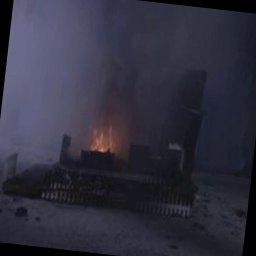fire: (75, 114, 134, 179)
smoke: (2, 0, 256, 128)
